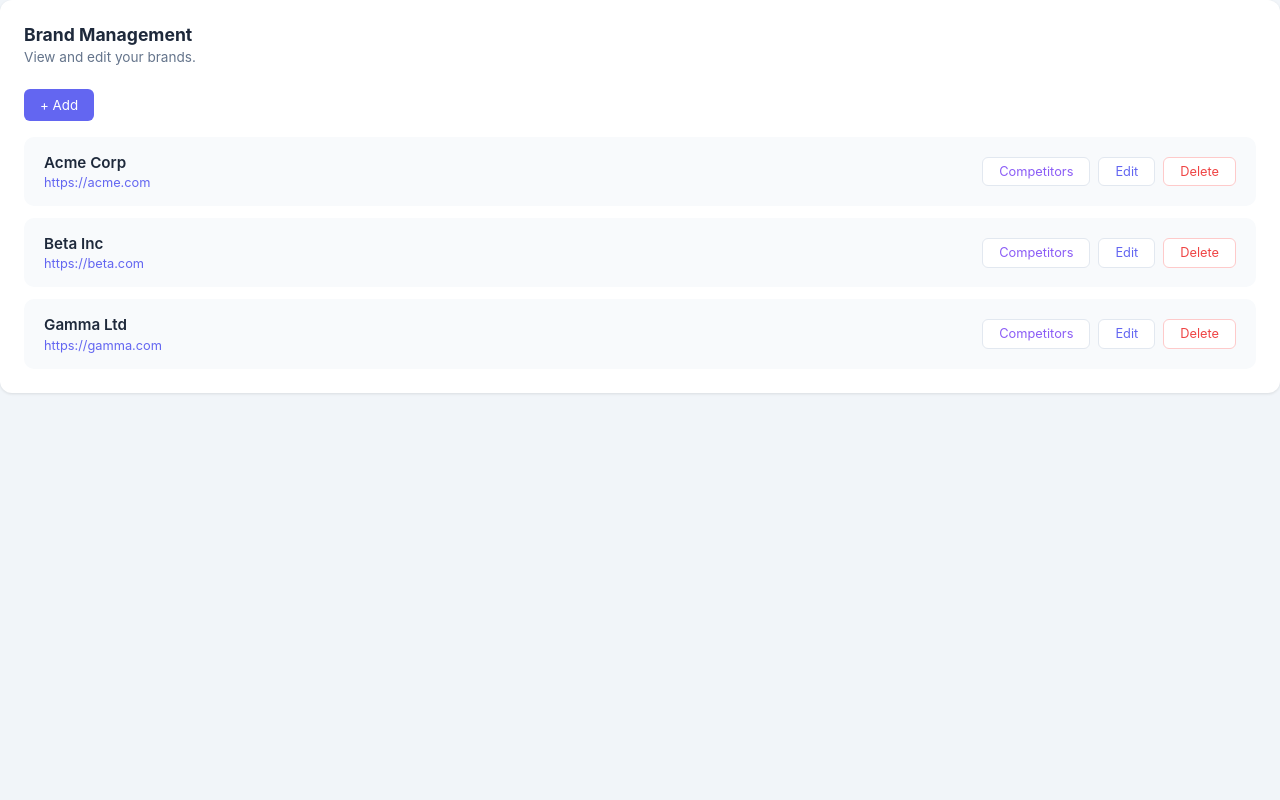
Test: BrandManagement — Competitor CRUD › adds competitor via autocomplete
Expected: the text "Acme Corp" is shown, [44,153,126,172]
Click the button "Competitors" in the row of "https://acme.com" at (1036,172), box [982,157,1090,186]
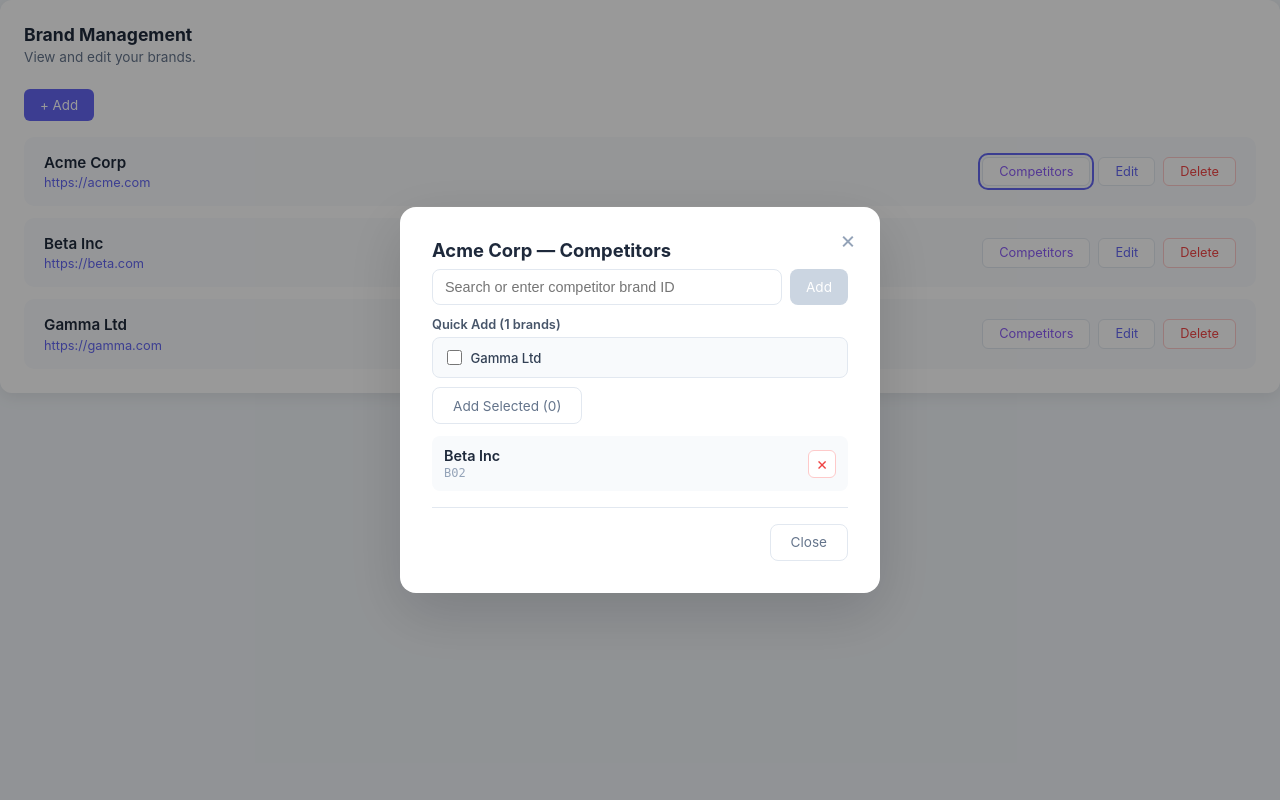
Now the heading "Acme Corp — Competitors" is shown, box [432,239,671,261]
// Type search query
Type "Gamma" into the field with placeholder "Search or enter competitor brand ID" at (607,287), box [432,269,782,305]
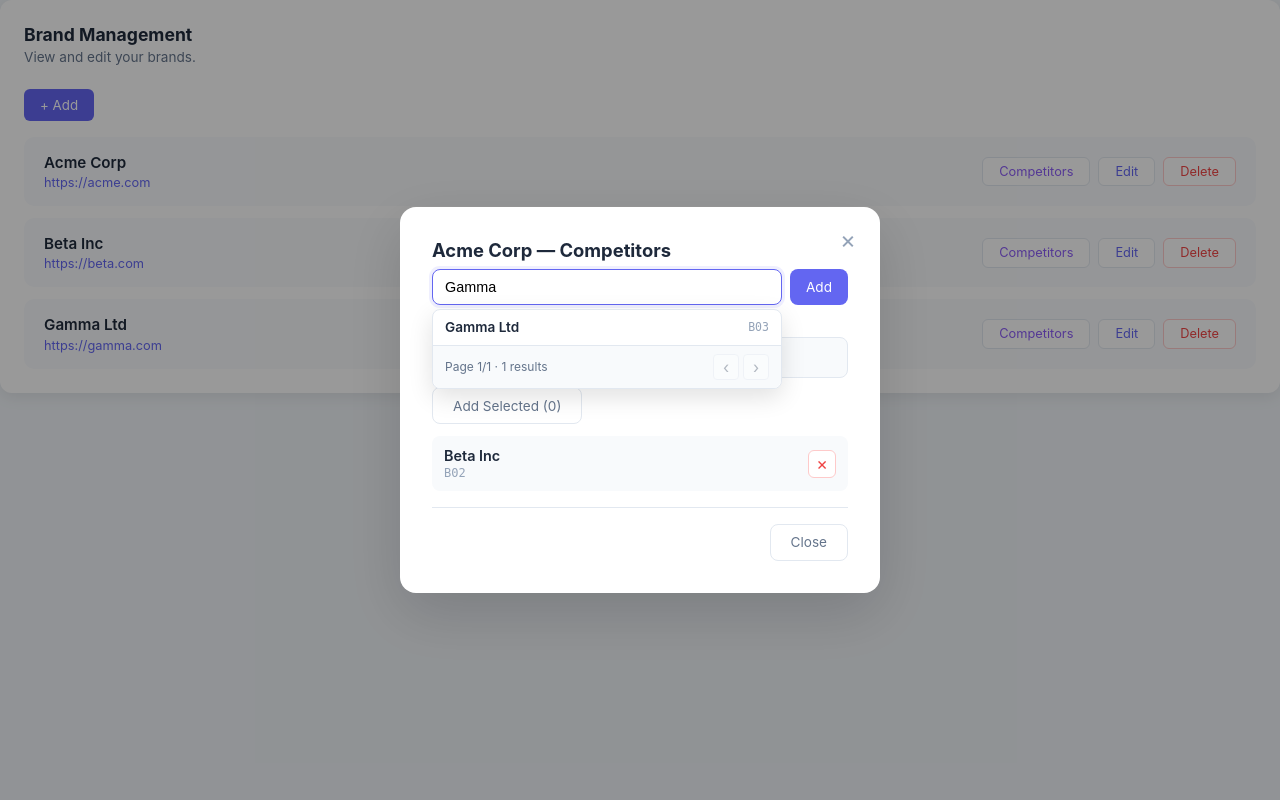
Now the element with class "brand-mgmt-autocomplete-dropdown" is shown, box [432,309,782,389]
Now the button with class "brand-mgmt-autocomplete-item" is shown
Click the button with class "brand-mgmt-autocomplete-item" at (482,327), box [433,310,781,345]
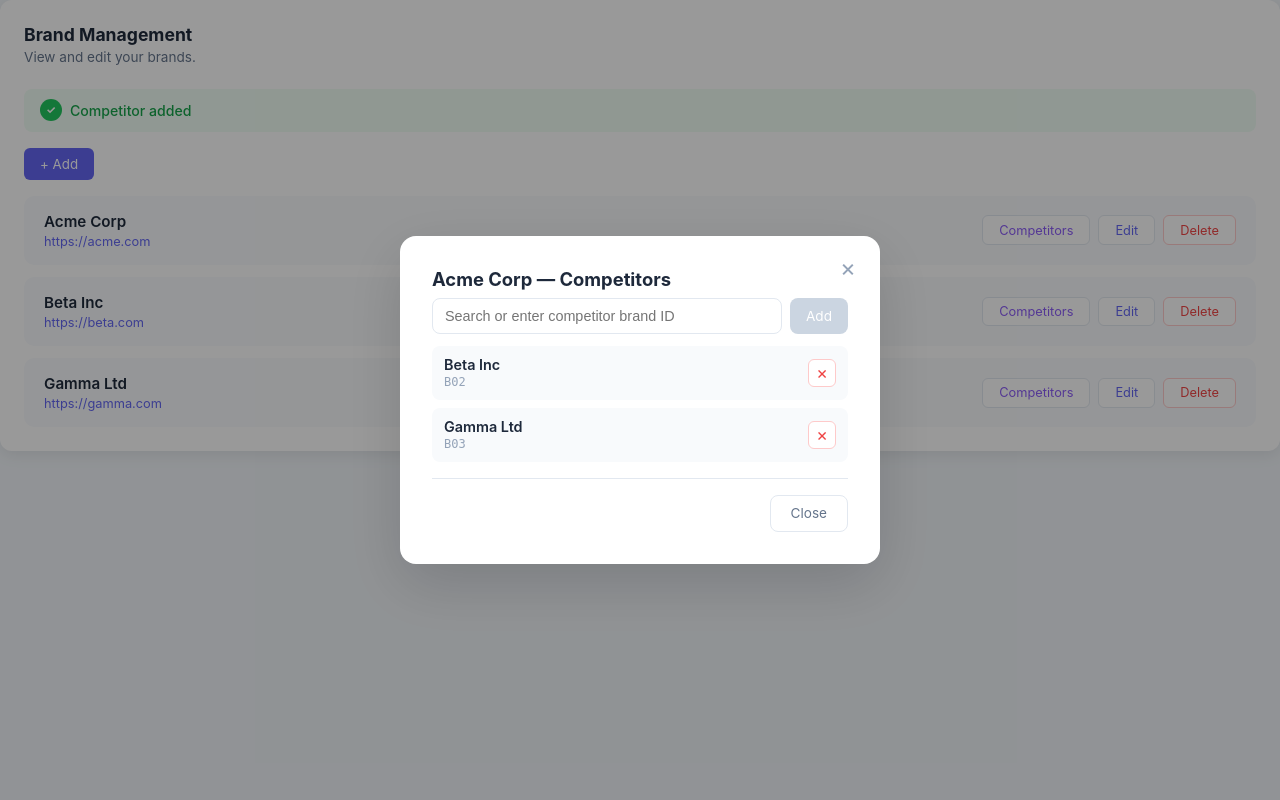
Now the text "✓ Competitor added" is shown, box [24,89,1256,132]
